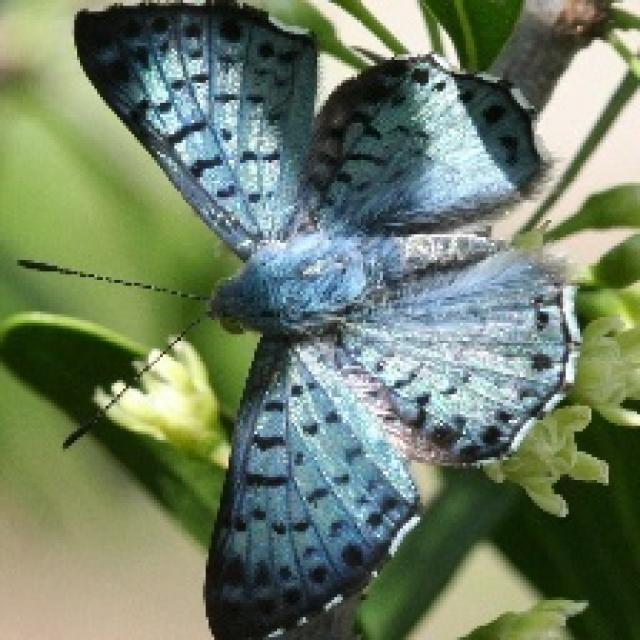butterfly: (14, 0, 583, 637)
